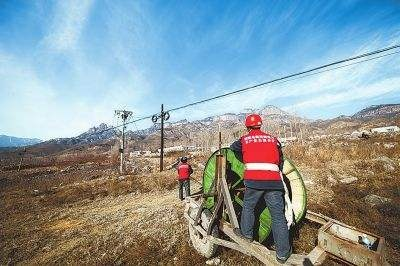red: (242, 111, 264, 135)
